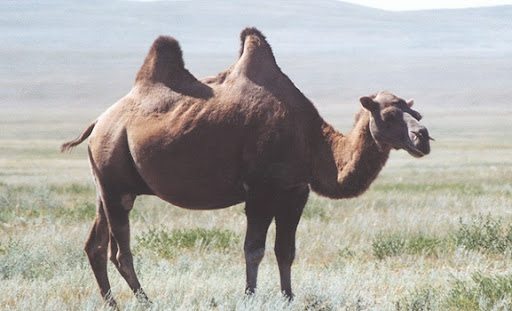camel: (63, 19, 452, 311)
